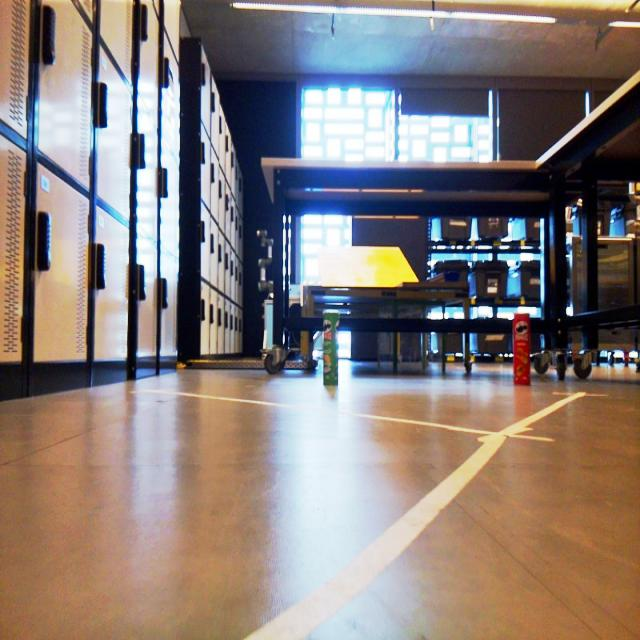greenpringles: (312, 308, 347, 401)
redpringles: (508, 304, 538, 389)
